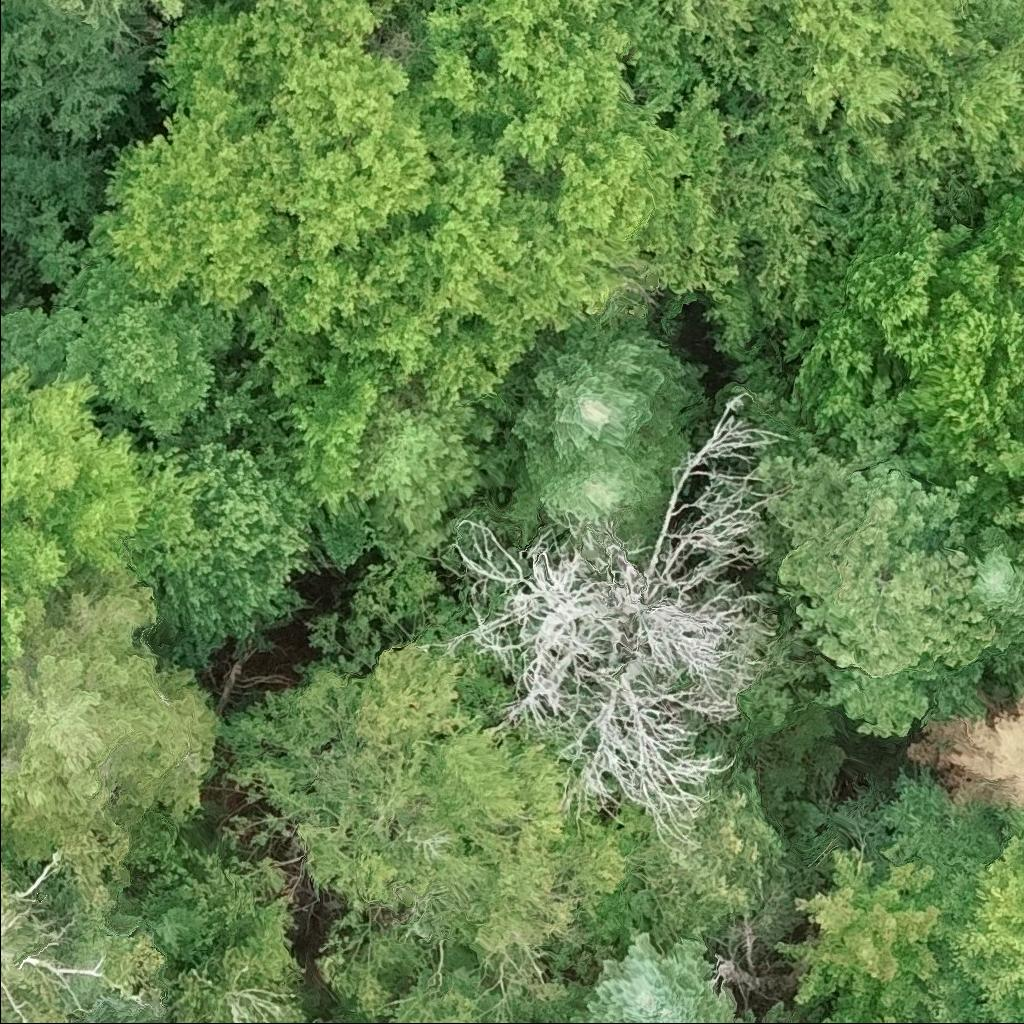crown: (88, 0, 632, 516), (418, 391, 793, 858), (217, 642, 628, 959), (750, 375, 996, 741), (412, 0, 734, 265), (788, 188, 1023, 526), (0, 364, 219, 686), (625, 0, 973, 195), (0, 565, 220, 863), (654, 97, 879, 354), (133, 435, 315, 656), (874, 764, 1023, 1023), (851, 0, 1023, 224), (493, 311, 708, 459), (772, 847, 948, 1023), (0, 0, 159, 143), (360, 395, 506, 545), (505, 432, 696, 544), (565, 925, 741, 1023), (905, 682, 1023, 808), (966, 524, 1023, 691), (48, 0, 193, 32), (973, 431, 1023, 482), (483, 996, 538, 1023), (735, 999, 786, 1023), (991, 493, 1023, 529), (385, 0, 425, 12), (981, 1015, 1022, 1023), (239, 0, 283, 7), (287, 0, 314, 11), (1017, 548, 1023, 560), (347, 1021, 365, 1023)
